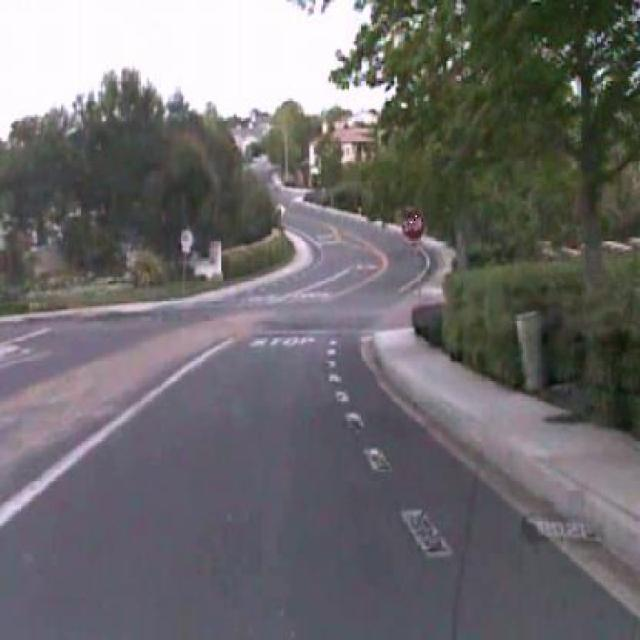stop: (400, 206, 426, 241)
